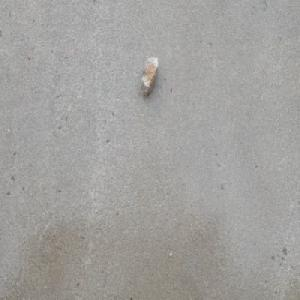Rock: (140, 55, 159, 98)
